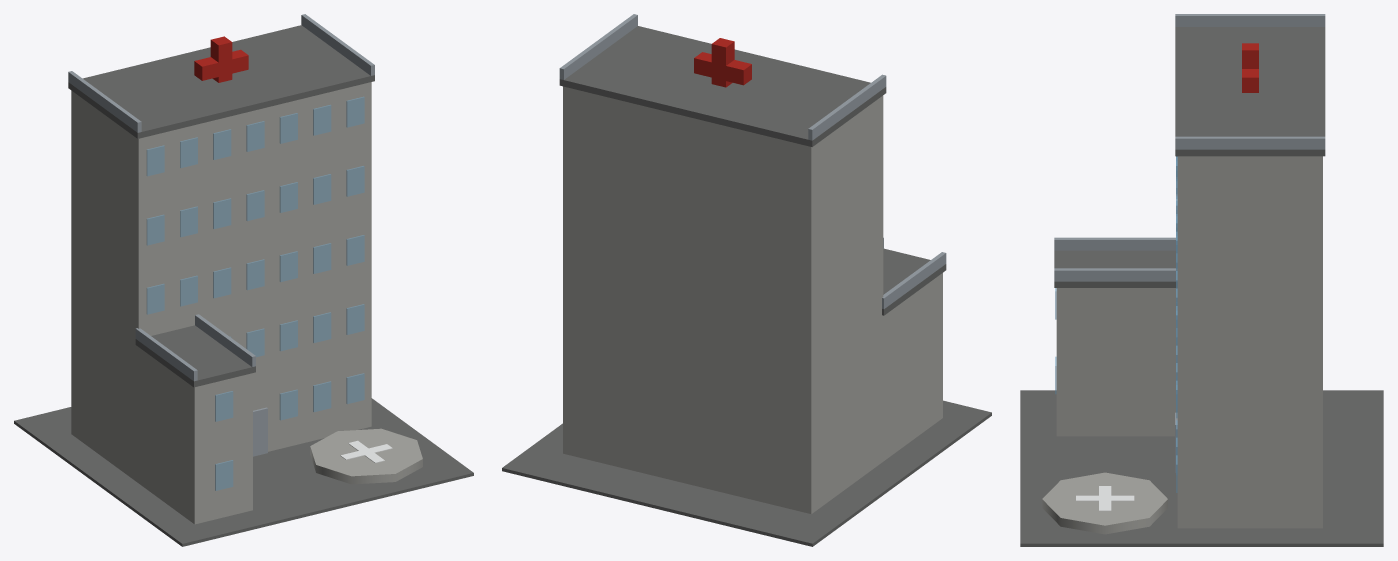
Rendered from bld_special_hospital_a07_lod1.glb.
3 renders of one model, left to right at view 1: azimuth 30°, elevation 25°; view 2: azimuth 150°, elevation 25°; view 3: azimuth 270°, elevation 25°, orthographic. The views are drawn at different scales.
Visible parts, largest first — view 1: body; view 2: body; view 3: body.
Part boxes in pixels (x1,y1,x2,y2): body: (14, 14, 473, 546); body: (502, 14, 991, 546); body: (1020, 14, 1383, 546).
Size of the model in its own units: 15 by 19.3 by 15.
